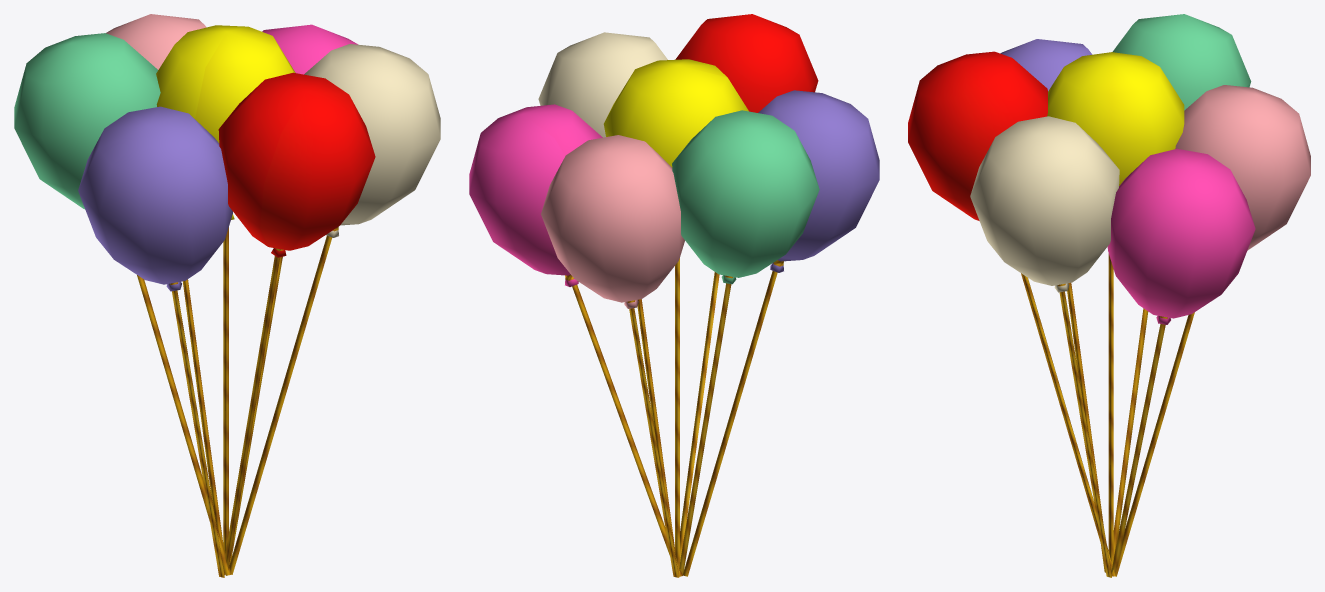
The model's file is HOS0910008.fbx.
The picture shows the model from 3 angles, left to right: view 1: azimuth 30°, elevation 25°; view 2: azimuth 150°, elevation 25°; view 3: azimuth 270°, elevation 25°; orthographic projection. The views are drawn at different scales.
Visible parts, largest first — view 1: smHOS0910008; view 2: smHOS0910008; view 3: smHOS0910008.
Part boxes in pixels (bbox=[...]): smHOS0910008: bbox=[14, 14, 440, 577]; smHOS0910008: bbox=[469, 14, 879, 577]; smHOS0910008: bbox=[908, 14, 1310, 577].
Bounding box in the file's own units: 169 × 251 × 177.
1 material, 1 textured.
